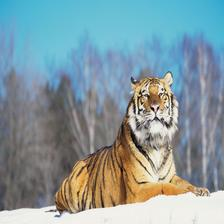tiger: (49, 71, 207, 206)
